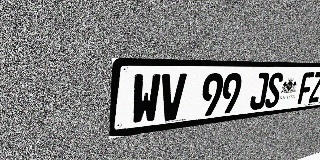9: (200, 73, 224, 117), (220, 73, 243, 114)
F: (297, 72, 315, 104)
J: (249, 73, 270, 110)
S: (264, 72, 284, 108)
V: (158, 73, 187, 122)
W: (130, 74, 161, 125)
Z: (308, 72, 320, 103)
